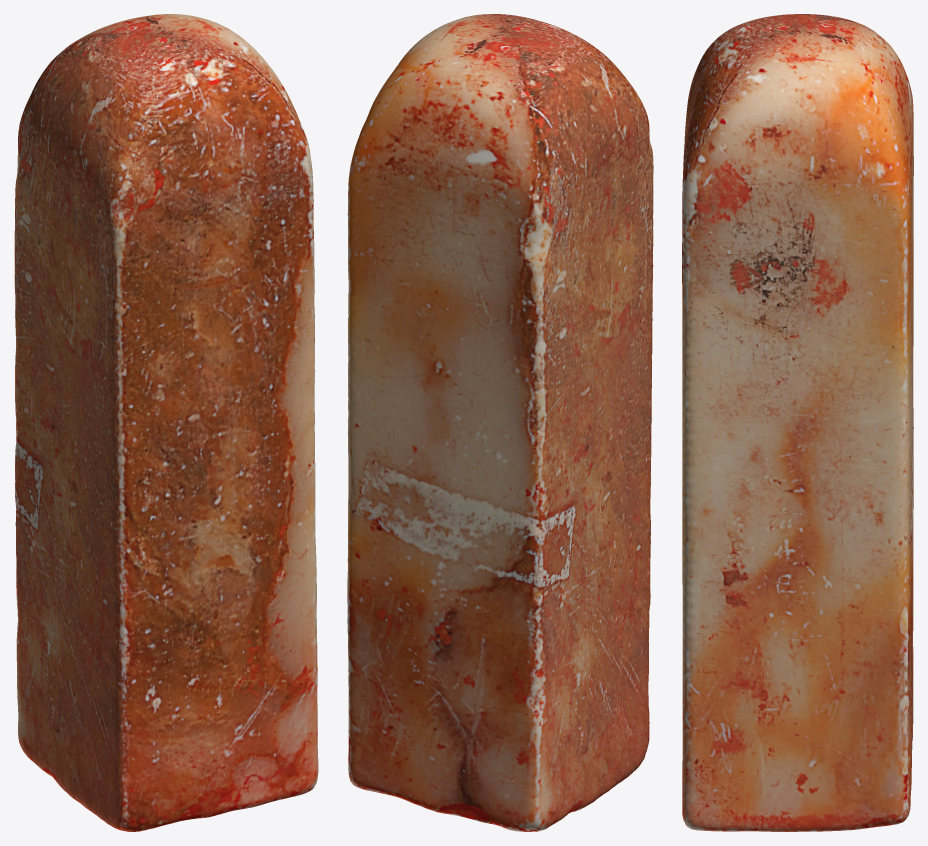
3 views of the same model, side by side, from view 1: azimuth 30°, elevation 25°; view 2: azimuth 150°, elevation 25°; view 3: azimuth 270°, elevation 25° (orthographic).
Parts seen in each view (by area): view 1: lowpoly.002; view 2: lowpoly.002; view 3: lowpoly.002.
Part boxes in pixels (box(x1,y1,x2,y2)): lowpoly.002: box(14, 14, 318, 831); lowpoly.002: box(347, 14, 653, 831); lowpoly.002: box(682, 14, 913, 831).
Bounding box in the file's own units: 3.51 × 12.27 × 3.41.
1 material, 1 textured.
